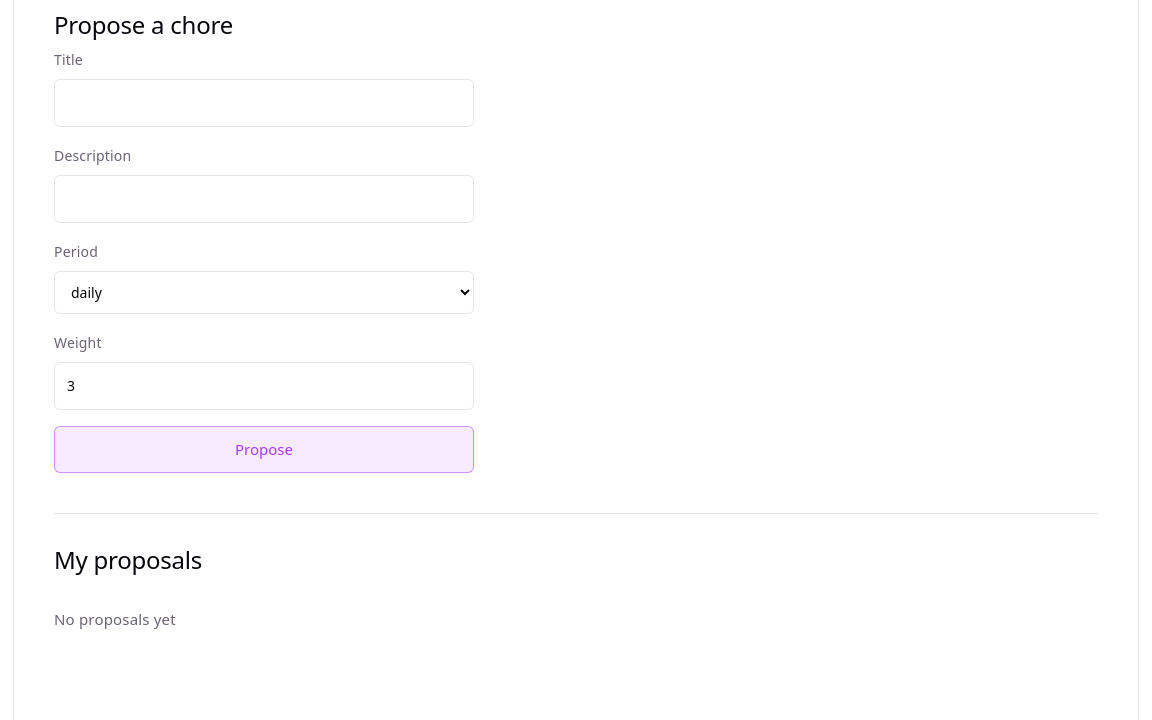
Test case: ChoresPage › shows a validation error for an empty title
(page scrolled)
What coordinates should you click on to do the following:
click the button "Propose"
I would click on:
 (264, 450)
Its box is [54,426,474,473].
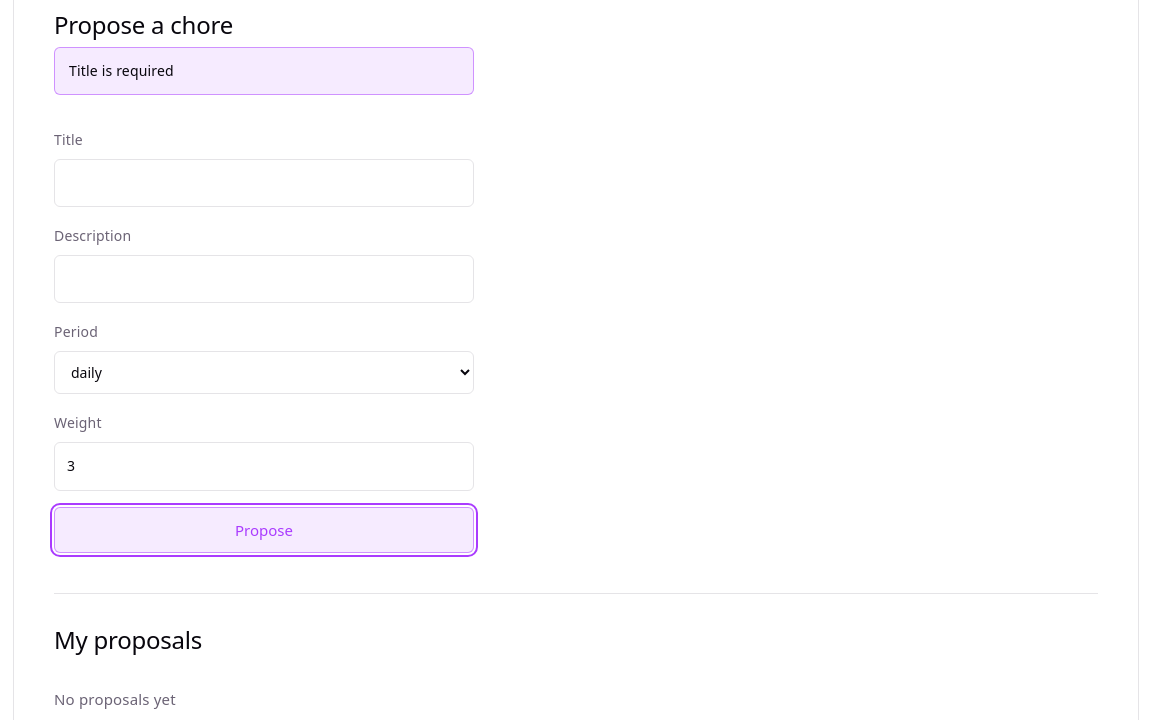
Expected: the text "Title is required" is shown, [54,47,474,95]
